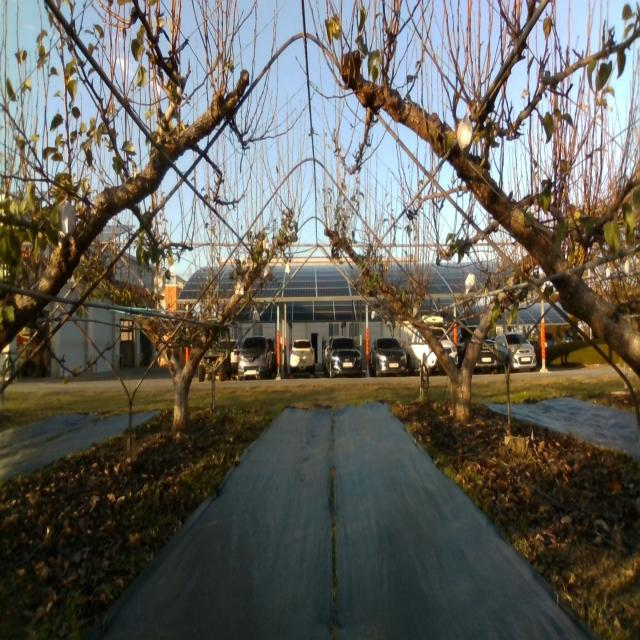pearbags: (59, 202, 76, 236), (457, 116, 473, 152), (154, 270, 165, 294), (465, 273, 476, 295)
